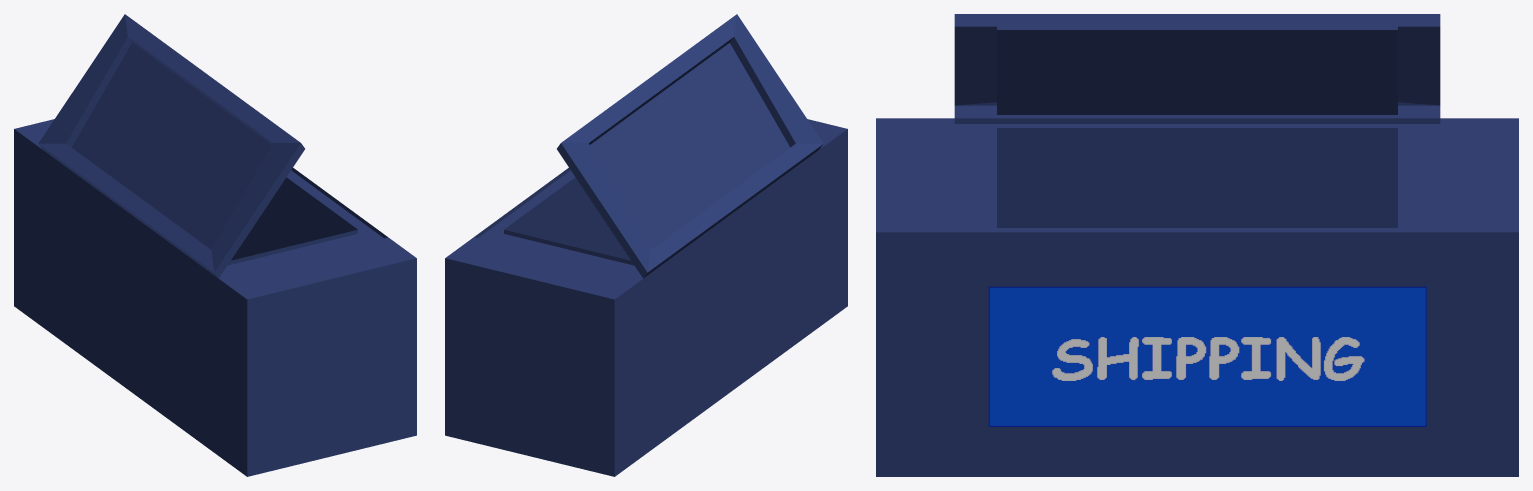
File: Shipping Box.fbx
3 renders of one model, left to right at view 1: azimuth 30°, elevation 25°; view 2: azimuth 150°, elevation 25°; view 3: azimuth 270°, elevation 25°, orthographic. The views are drawn at different scales.
Visible parts, largest first — view 1: ShippingBox; view 2: ShippingBox; view 3: ShippingBox, shipping text.
Part boxes in pixels (x1,y1,x2,y2): ShippingBox: (14,14,416,476); ShippingBox: (445,14,847,476); ShippingBox: (876,14,1518,476); shipping text: (988,286,1426,426).
Size of the model in its own units: 354 by 568 by 818.
2 materials, 1 textured.
